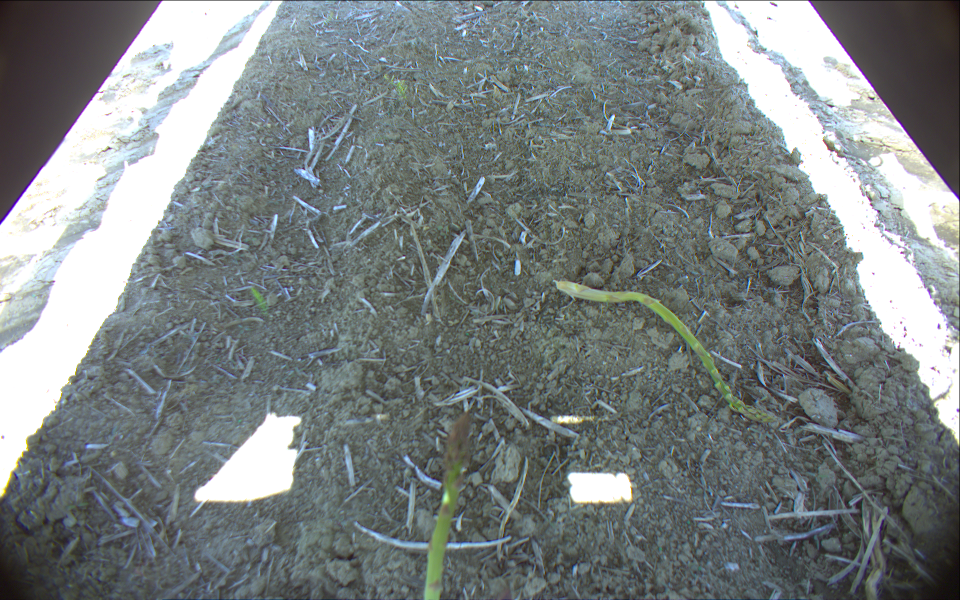aspa: (423, 404, 477, 600)
